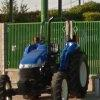Tractor: (12, 19, 91, 100)
